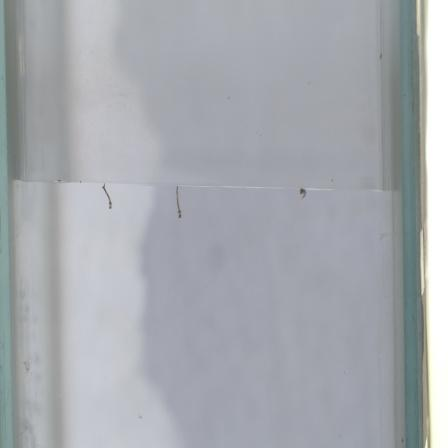Jentik-Nyamuk: (97, 183, 119, 214), (171, 184, 185, 223)
